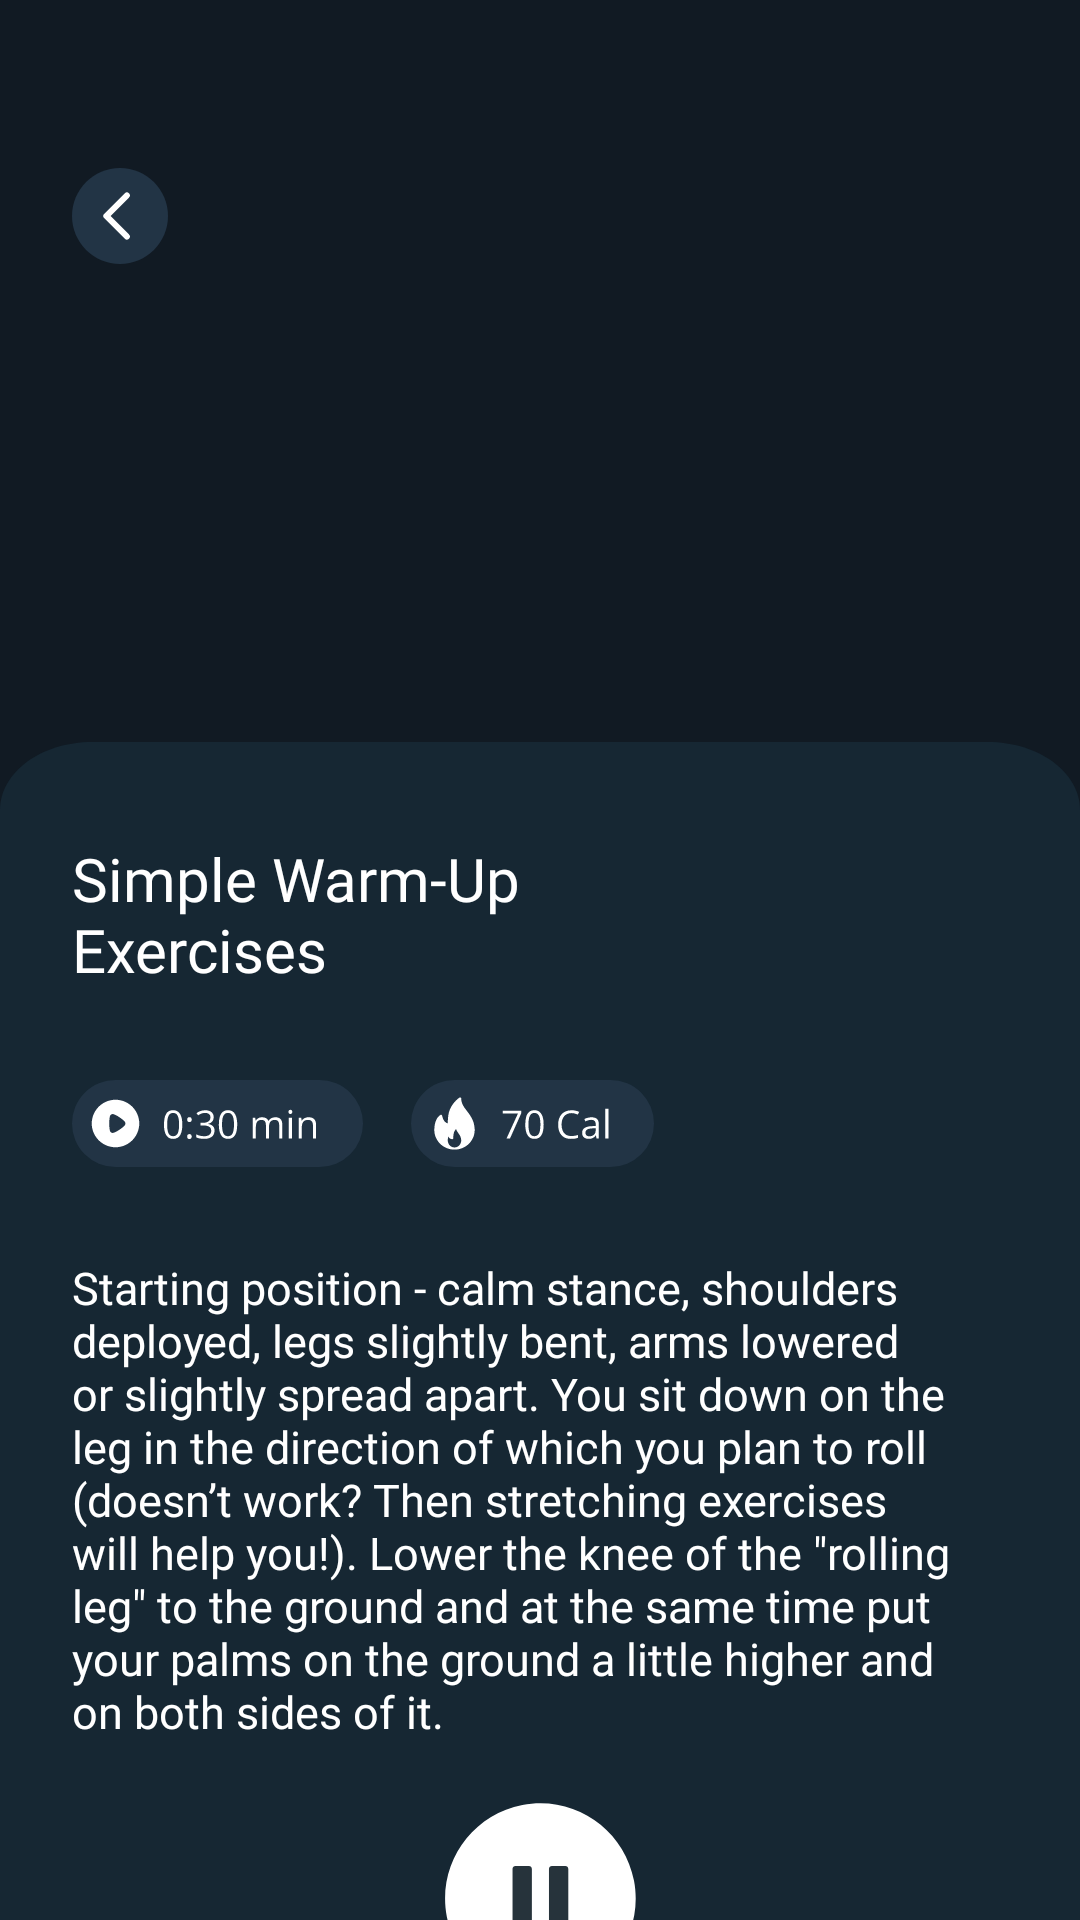

Point at icon controls on the screen. Image size 1080*1920, points as point (x, y).
profile back: point (120, 216)
